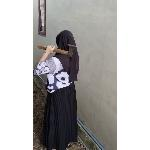Kapak: (36, 40, 78, 57)
